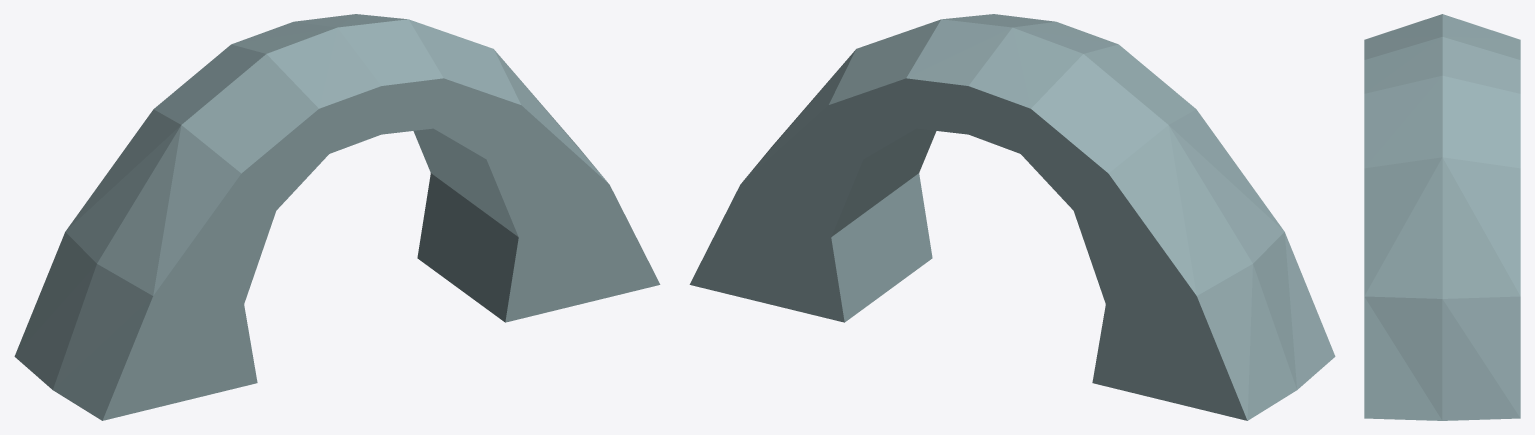
Rendered from Dandelion_Portail1.FBX.
3 renders of one model, left to right at view 1: azimuth 30°, elevation 25°; view 2: azimuth 150°, elevation 25°; view 3: azimuth 270°, elevation 25°, orthographic. The views are drawn at different scales.
Visible parts, largest first — view 1: Box002; view 2: Box002; view 3: Box002.
Part boxes in pixels (<box>): Box002: <box>14,14,660,420</box>; Box002: <box>689,14,1335,420</box>; Box002: <box>1364,14,1520,420</box>.
Bounding box in the file's own units: 561 × 276 × 150.
